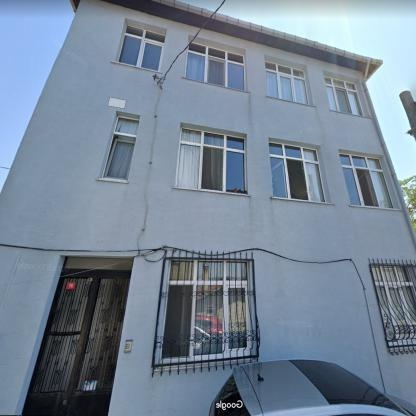door: (25, 270, 130, 414)
